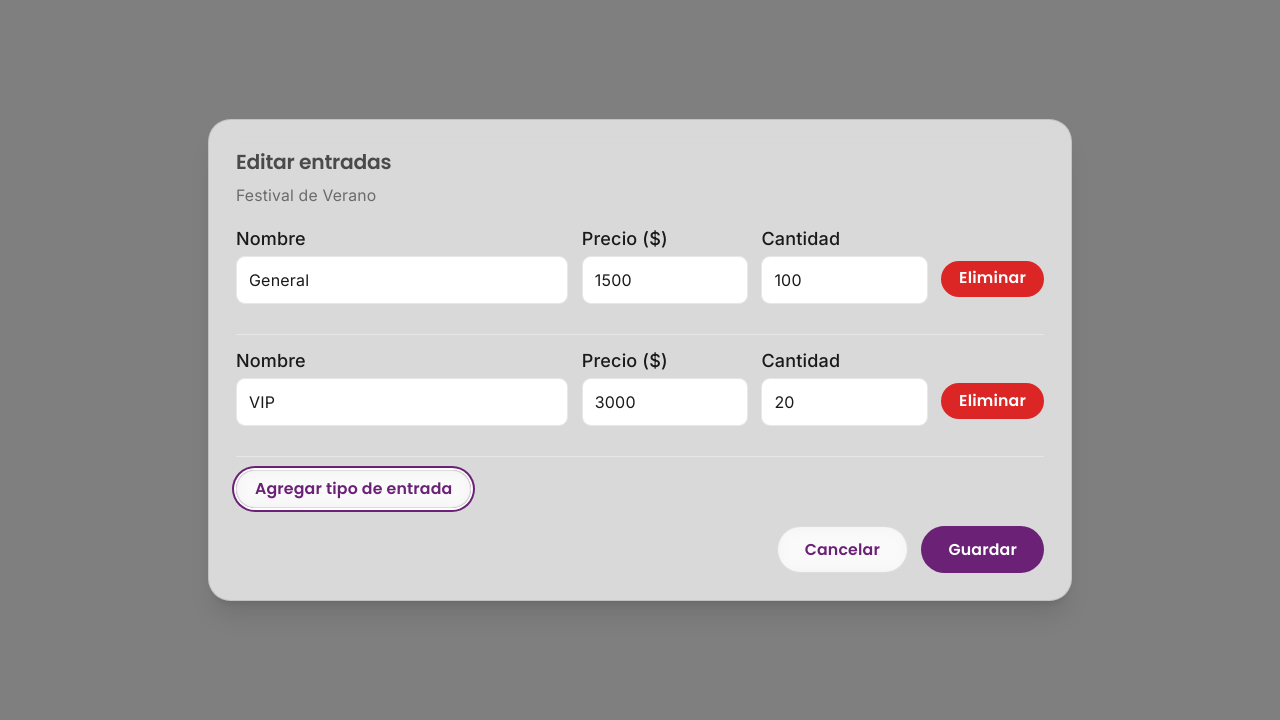
Scenario: EditTicketsModal › surfaces a generic backend error without succeeding
Expected: the field named "Nombre de la entrada 1" is shown, [236, 256, 568, 304]
Click the button "Guardar".
click(983, 550)  # box [922, 526, 1044, 574]
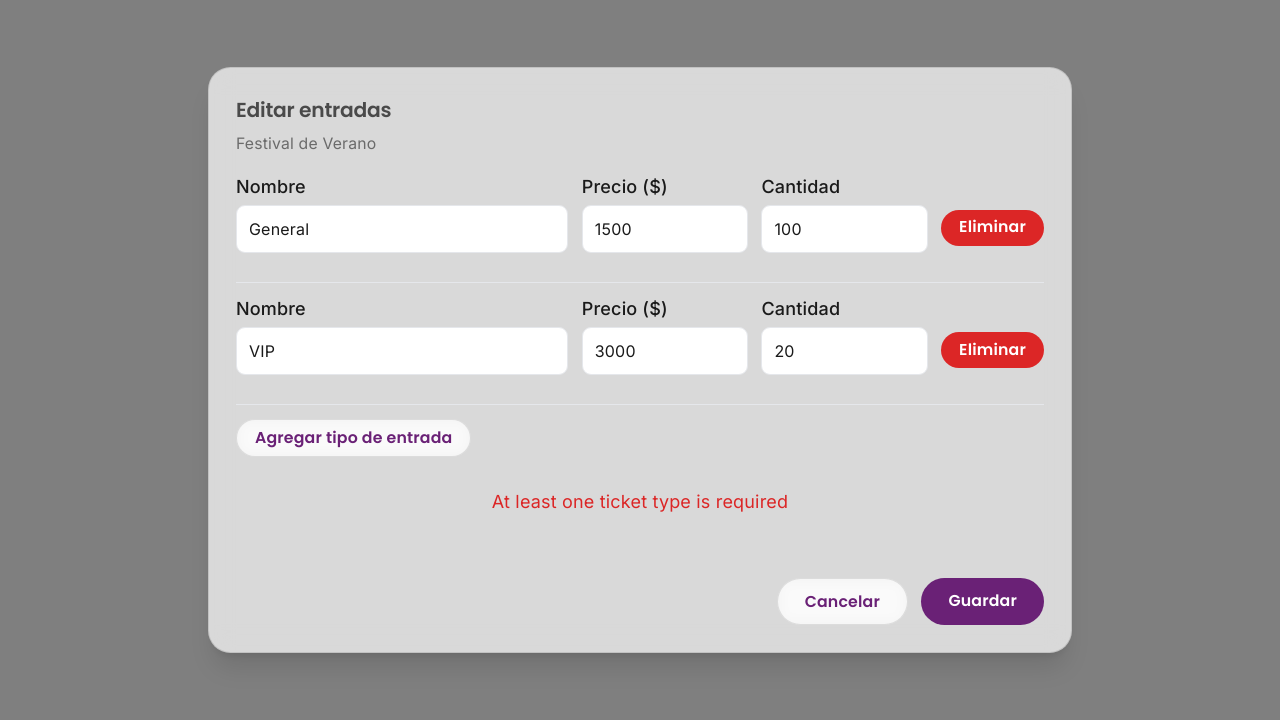
Now the message shows "At least one ticket type", box [492, 491, 788, 512]
